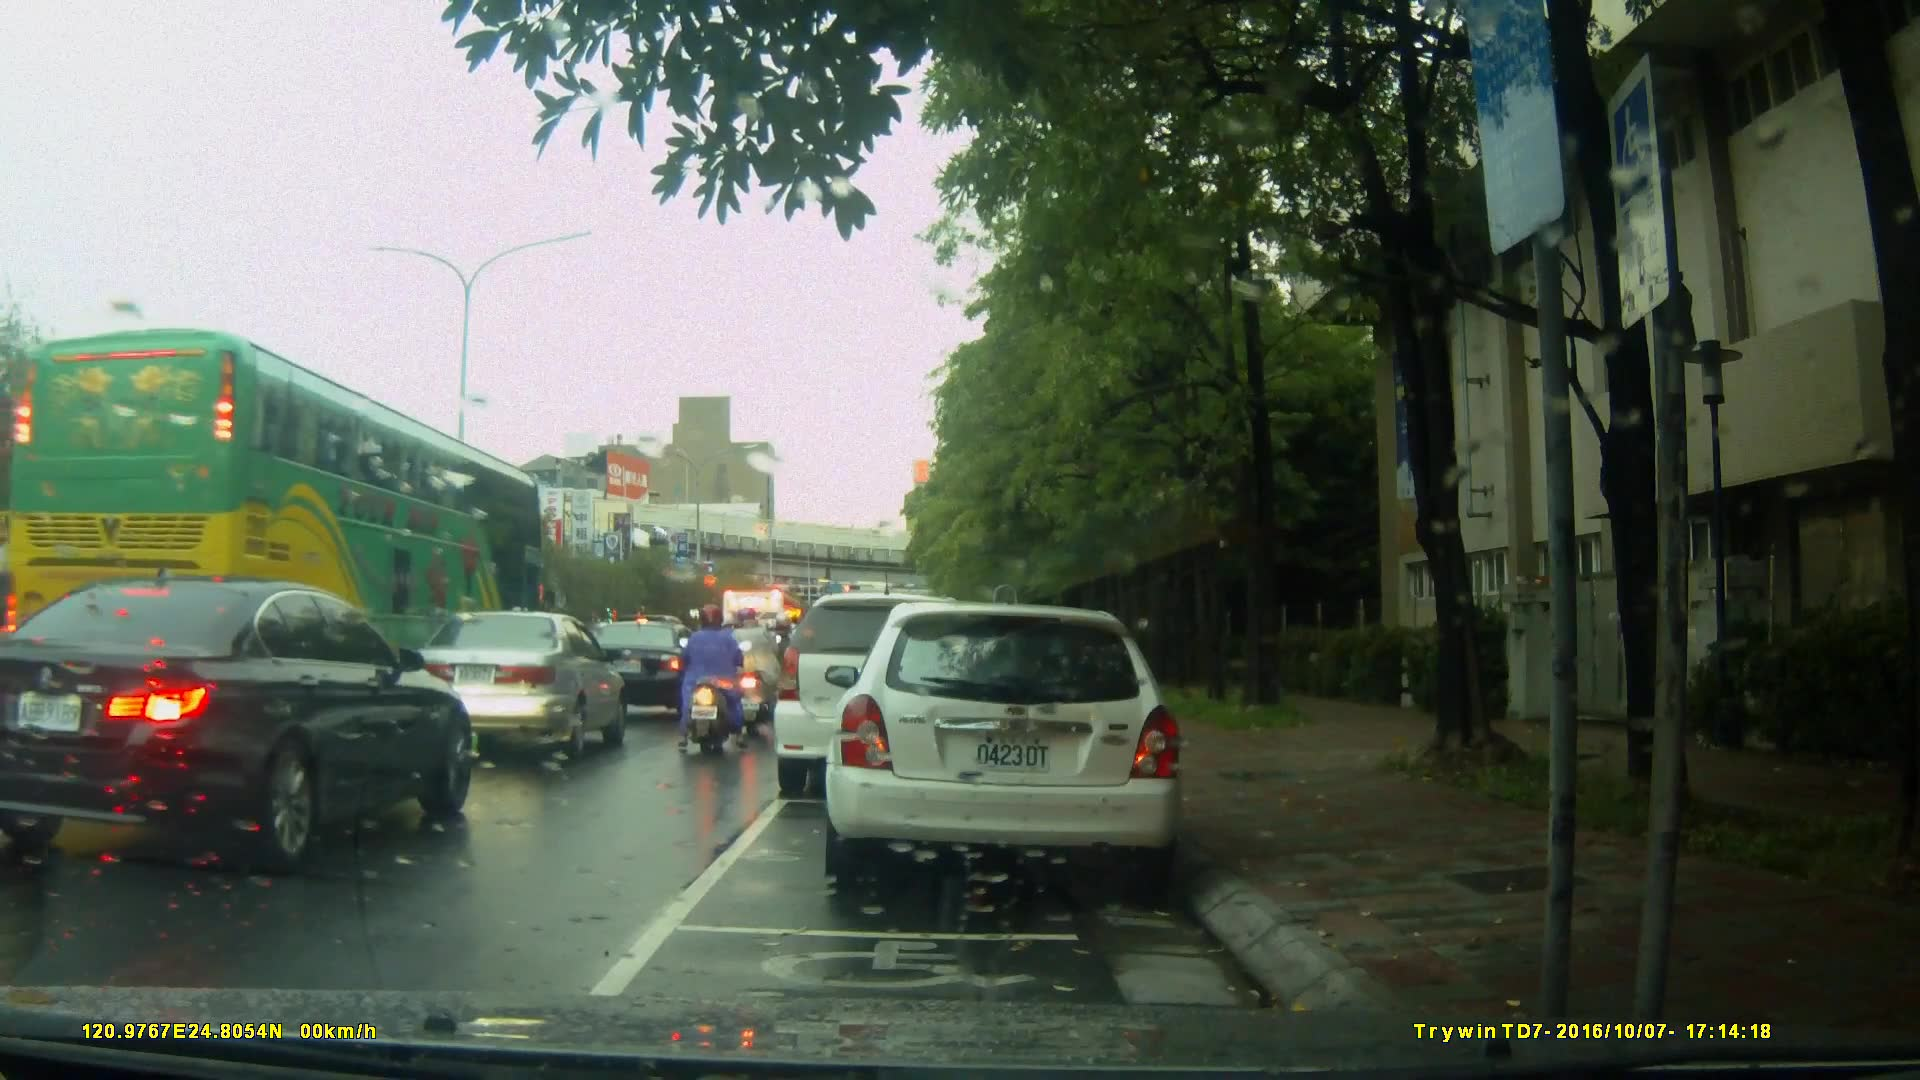rider: (675, 605, 740, 754), (738, 604, 788, 724)
vehicle: (5, 323, 546, 659), (3, 576, 483, 877), (831, 592, 1196, 897), (771, 592, 999, 797), (408, 610, 628, 771), (578, 620, 700, 722), (719, 586, 802, 705)
